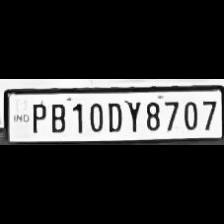0: (85, 100, 105, 132), (180, 98, 198, 130)
1: (67, 99, 85, 134)
7: (162, 98, 180, 130), (200, 98, 218, 130)
8: (141, 98, 161, 132)
B: (47, 100, 66, 132)
D: (104, 100, 124, 132)
P: (27, 99, 47, 133)
Y: (124, 99, 140, 134)
